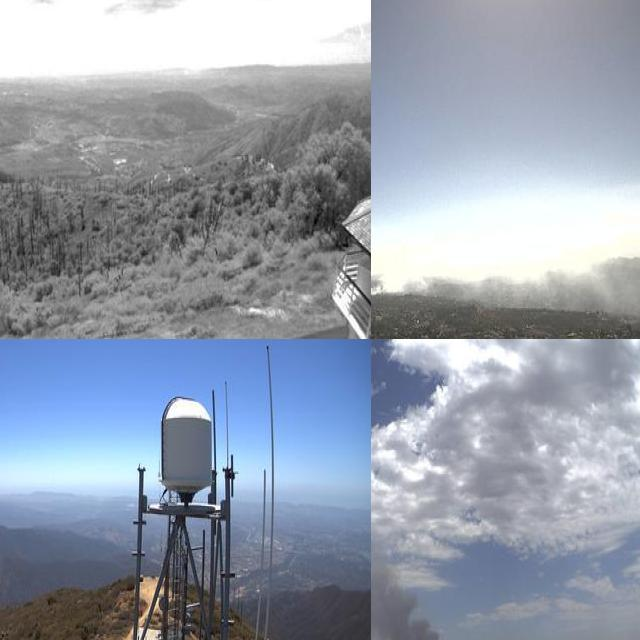smoke: (371, 214, 640, 329), (371, 499, 481, 640)
